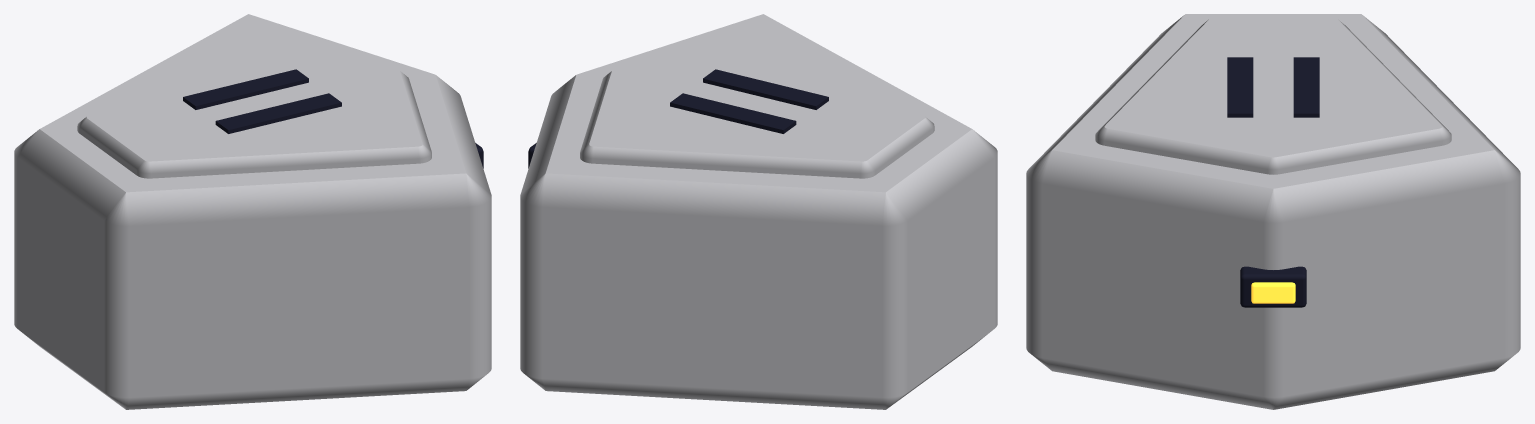
Rendered from roof.joint.convex45.s2.glb.
The picture shows the model from 3 angles, left to right: view 1: azimuth 30°, elevation 25°; view 2: azimuth 150°, elevation 25°; view 3: azimuth 270°, elevation 25°; orthographic projection.
Visible parts, largest first — view 1: roof.joint.convex45.s2; view 2: roof.joint.convex45.s2; view 3: roof.joint.convex45.s2.
Part boxes in pixels (left/top/right/bottom): roof.joint.convex45.s2: left=14, top=14, right=491, bottom=409; roof.joint.convex45.s2: left=520, top=14, right=997, bottom=409; roof.joint.convex45.s2: left=1026, top=14, right=1520, bottom=409.
Size of the model in its own units: 1.31 by 0.712 by 1.34.
